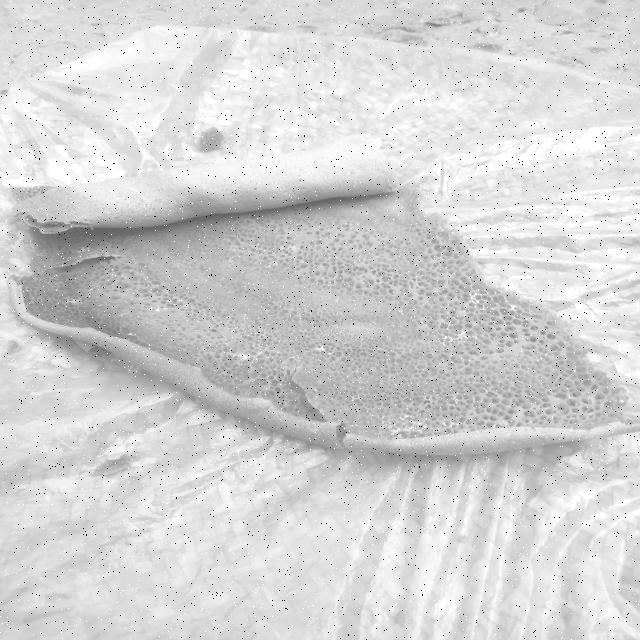injera_mold: (384, 420, 423, 436), (280, 355, 301, 378), (226, 351, 263, 362), (440, 333, 475, 344), (467, 288, 484, 309), (276, 244, 298, 257), (418, 394, 438, 408), (59, 296, 86, 306), (342, 168, 362, 178), (76, 244, 95, 254), (311, 344, 329, 354), (335, 419, 353, 429), (346, 439, 367, 447), (254, 328, 266, 341), (261, 261, 280, 269), (225, 260, 240, 268), (497, 422, 514, 429), (444, 422, 456, 431), (308, 424, 318, 434), (524, 419, 536, 427), (508, 304, 518, 313), (451, 396, 462, 404), (153, 306, 161, 316), (301, 326, 309, 336), (568, 390, 578, 398), (583, 398, 596, 404), (185, 282, 192, 292), (400, 415, 413, 420), (487, 294, 495, 302), (351, 396, 363, 401), (366, 420, 372, 430), (618, 398, 625, 406), (457, 328, 471, 332), (379, 422, 384, 432), (446, 309, 451, 318), (125, 332, 135, 336), (484, 388, 489, 396), (356, 418, 360, 428), (459, 429, 472, 432), (399, 310, 405, 316), (461, 313, 468, 318), (334, 298, 341, 303), (97, 303, 104, 308), (380, 414, 388, 418), (89, 275, 97, 279), (312, 388, 319, 392), (88, 288, 95, 292), (125, 299, 129, 306), (419, 320, 426, 324), (343, 222, 350, 226), (219, 335, 228, 338), (424, 417, 429, 422), (445, 322, 450, 327), (224, 342, 229, 347), (453, 316, 456, 323), (416, 409, 421, 413), (498, 316, 503, 320), (503, 297, 507, 302), (572, 369, 576, 374), (267, 322, 271, 327), (164, 308, 169, 312), (411, 399, 414, 405), (196, 320, 202, 323), (438, 362, 442, 366), (146, 320, 150, 324), (336, 409, 339, 414), (394, 360, 397, 365), (425, 332, 430, 335), (253, 378, 256, 383), (452, 380, 454, 386), (217, 382, 221, 384)
